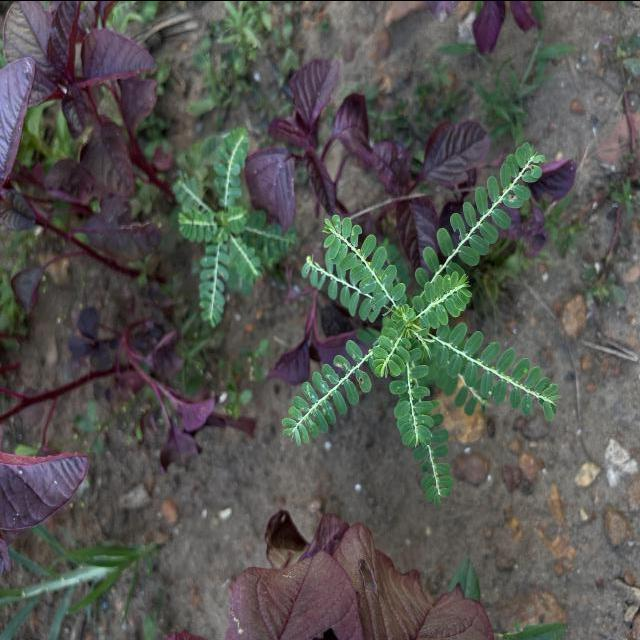Phyllanthus niruri: (415, 137, 545, 293), (439, 320, 561, 422), (278, 334, 374, 448), (321, 212, 406, 312), (390, 350, 434, 450), (409, 267, 472, 332), (370, 327, 413, 381)
